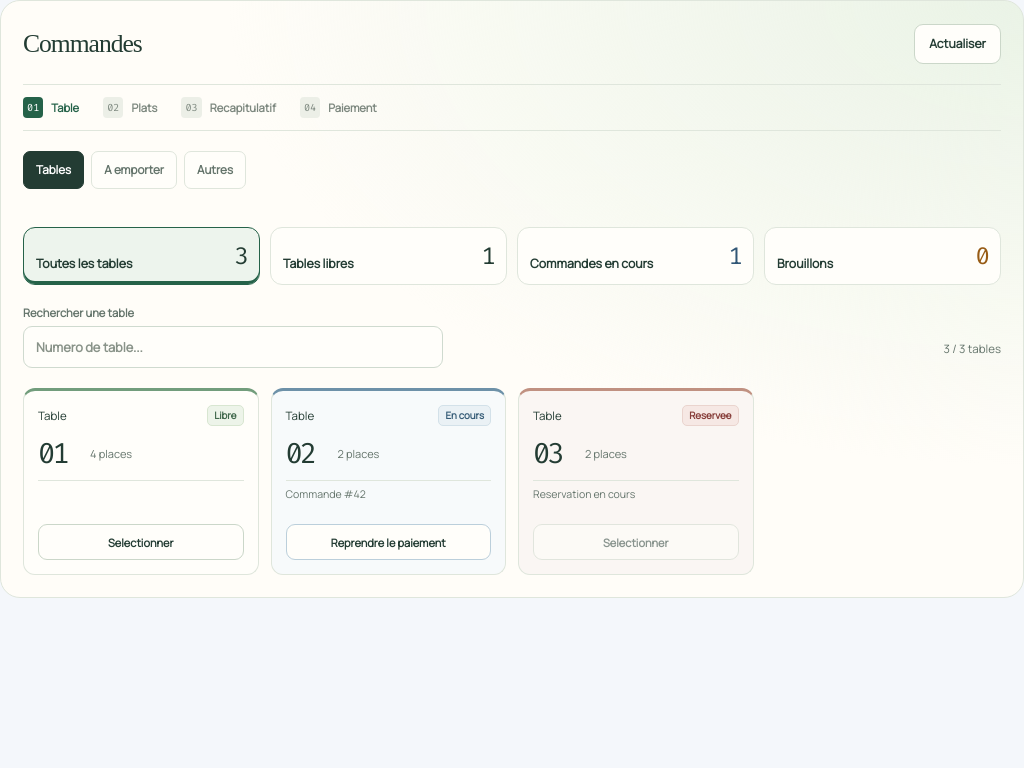
Test: limits the basket according to shared raw stock and keeps quantity reductions available
The image size is (1024, 768).
Click the button with aria-label "Selectionner la table 1" at (141, 542), box [38,524,244,560]
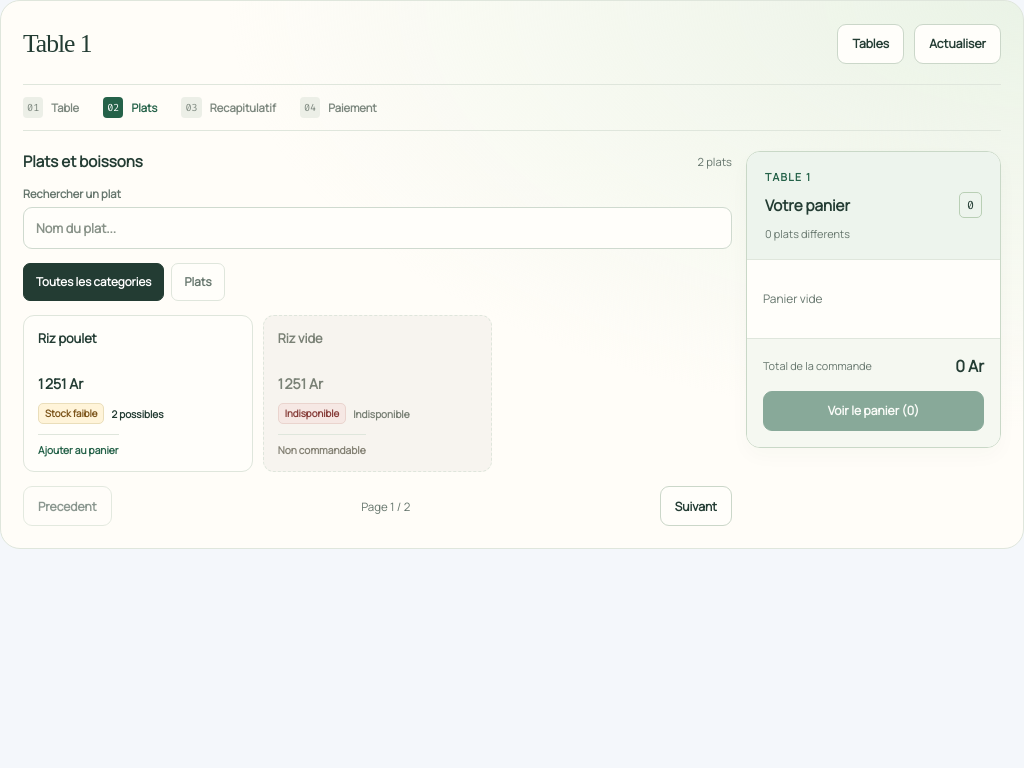
Click the button with aria-label "Ajouter Riz poulet" at (138, 394), box [23,315,253,472]
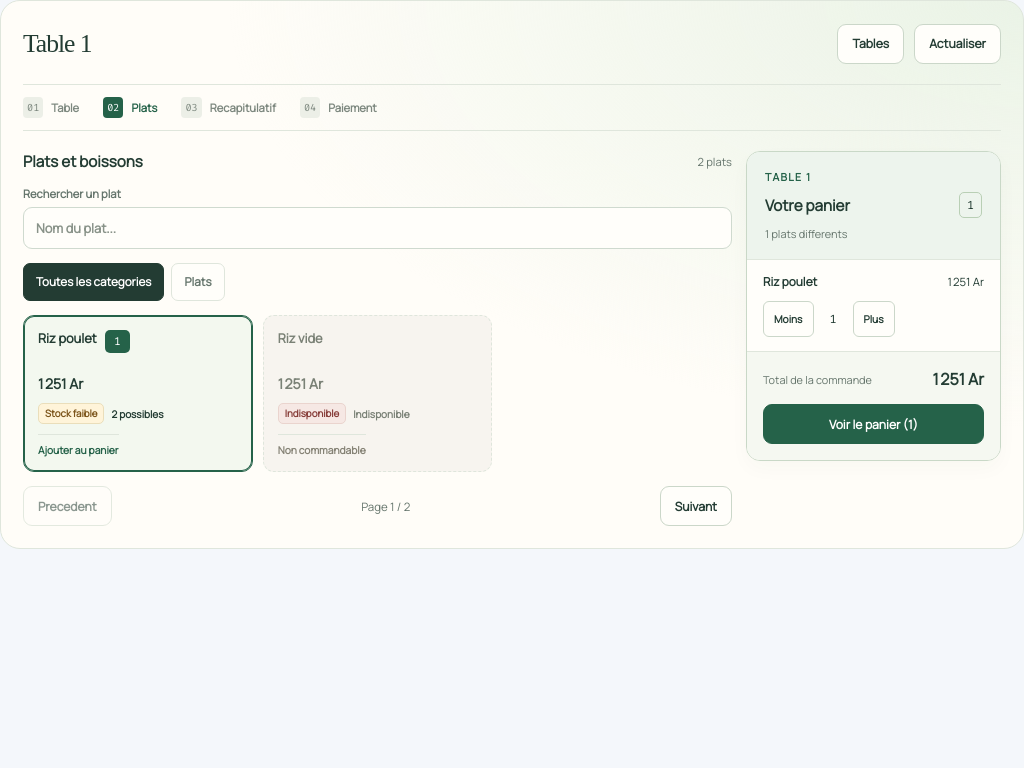
Click the button with aria-label "Ajouter Riz poulet" at (138, 394), box [23,315,253,472]
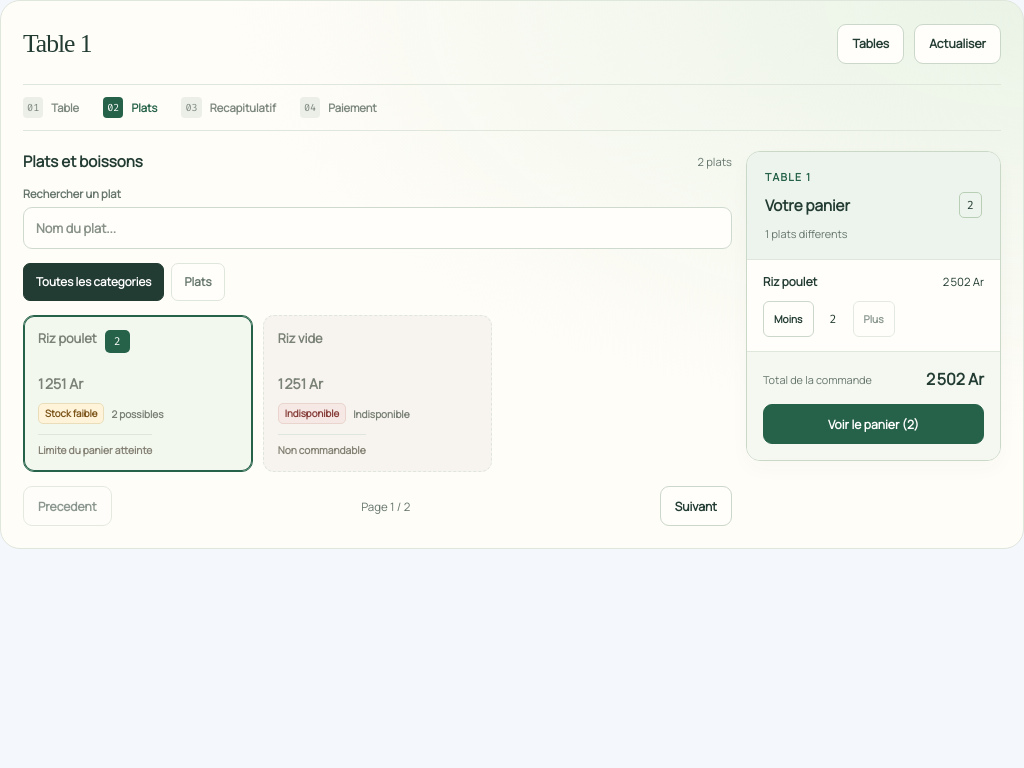
Check: the button with aria-label "Ajouter Riz poulet" is disabled, box [23,315,253,472]
Click the button "Voir le panier (2)" at (874, 424), box [763,404,984,444]
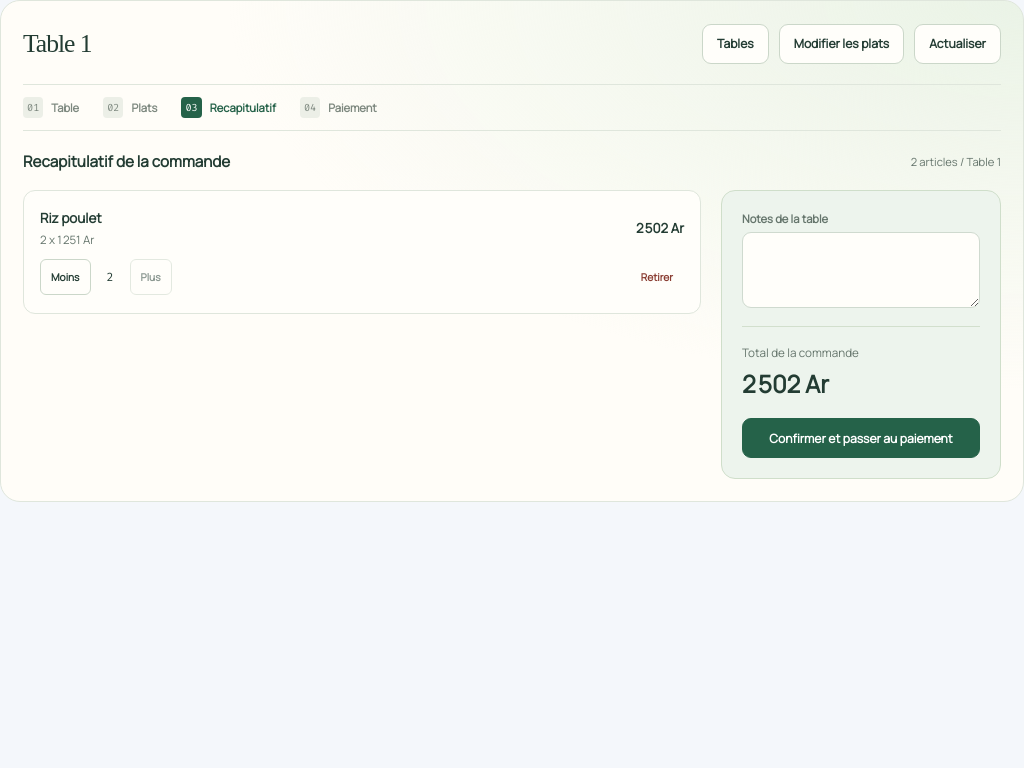
Check: the button with aria-label "Augmenter Riz poulet" is disabled, box [130,259,172,295]
Click the button with aria-label "Diminuer Riz poulet" at (65, 277), box [40,259,90,295]
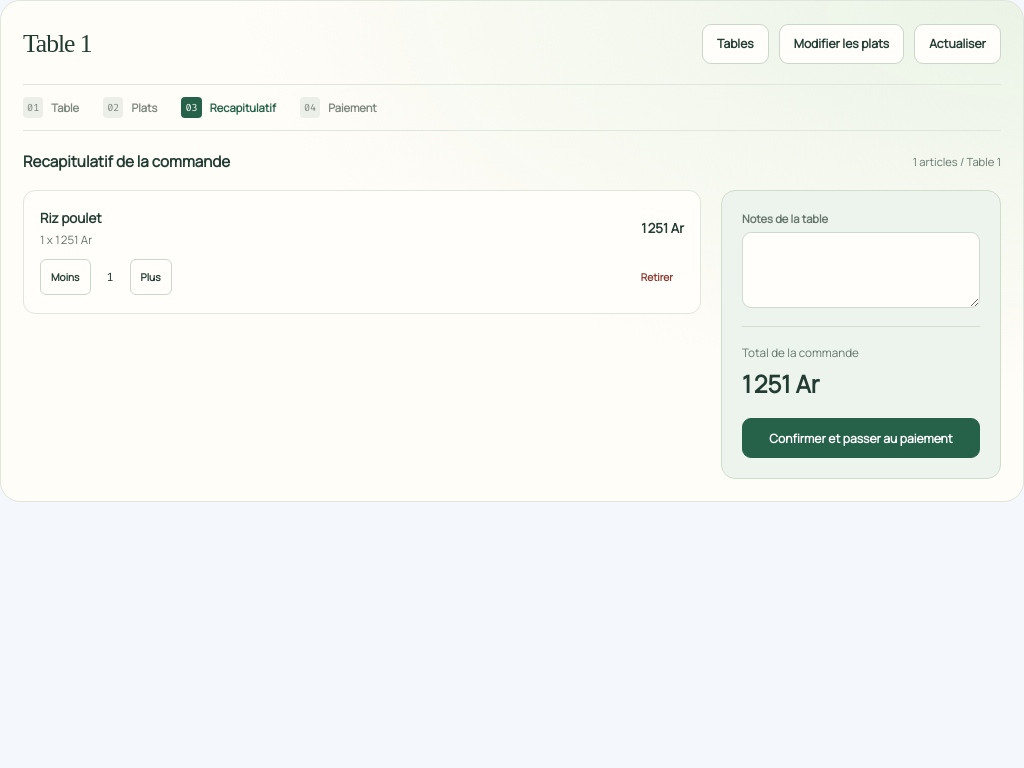
Check: the button with aria-label "Augmenter Riz poulet" is enabled, box [130,259,172,295]
